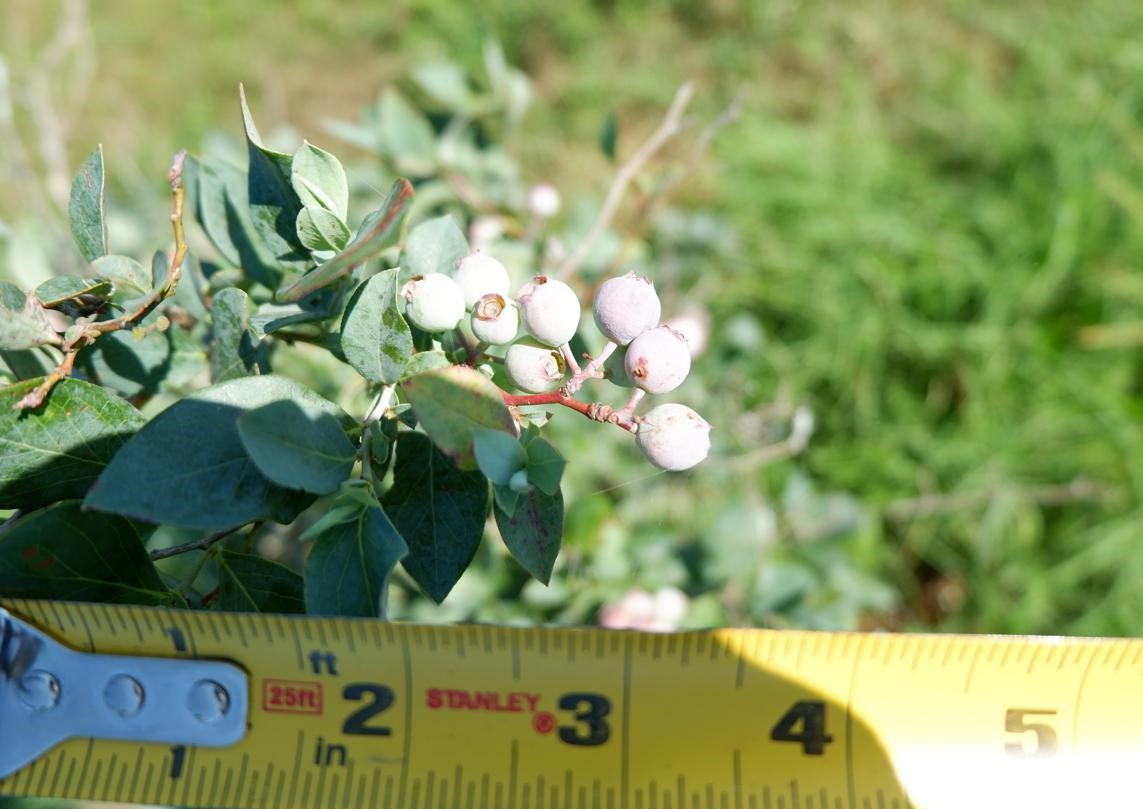Immature: (592, 270, 662, 347), (635, 404, 712, 471), (514, 274, 581, 346), (624, 324, 691, 394), (401, 272, 465, 334), (452, 249, 511, 312), (504, 335, 566, 393), (471, 293, 521, 345), (603, 344, 636, 387)
